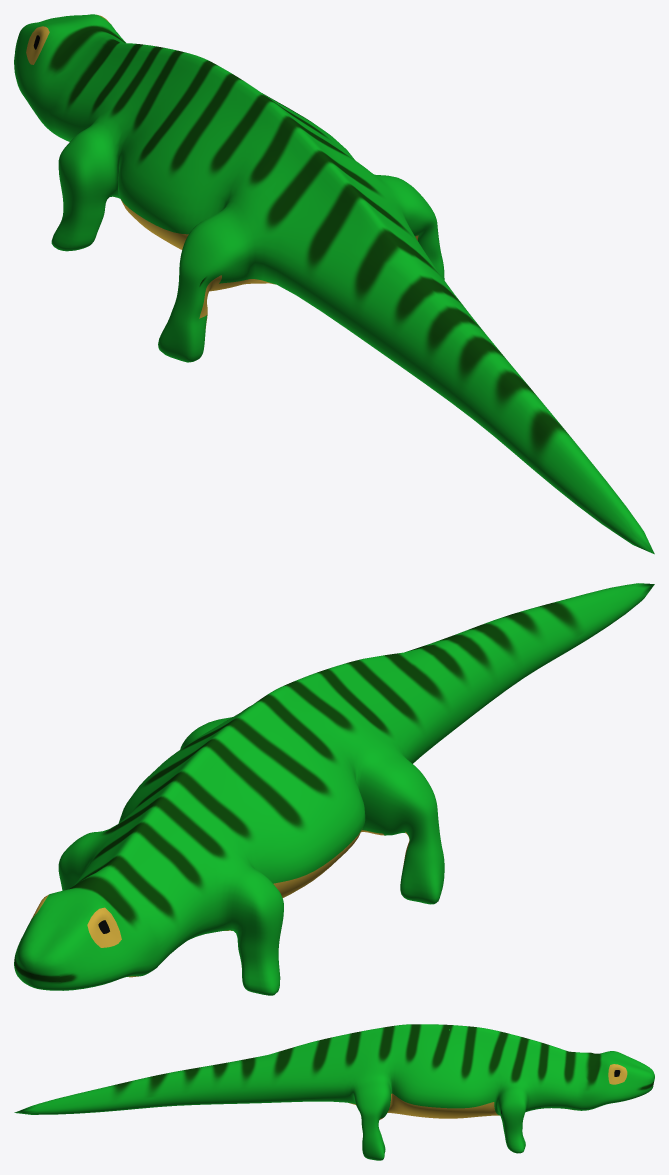
The model's file is lizard2.gltf.
3 views of the same model, one above another, from view 1: azimuth 30°, elevation 25°; view 2: azimuth 150°, elevation 25°; view 3: azimuth 270°, elevation 25° (orthographic). The views are drawn at different scales.
Parts seen in each view (by area): view 1: KomodoMesh_Cube; view 2: KomodoMesh_Cube; view 3: KomodoMesh_Cube.
Boxes of the visible parts, x1,y1,x2,y2 form: KomodoMesh_Cube: [14, 14, 654, 554]; KomodoMesh_Cube: [14, 583, 654, 995]; KomodoMesh_Cube: [14, 1024, 654, 1160].
Size of the model in its own units: 0.9628 by 0.6627 by 3.71.
Materials: 2 (2 with a texture image).
